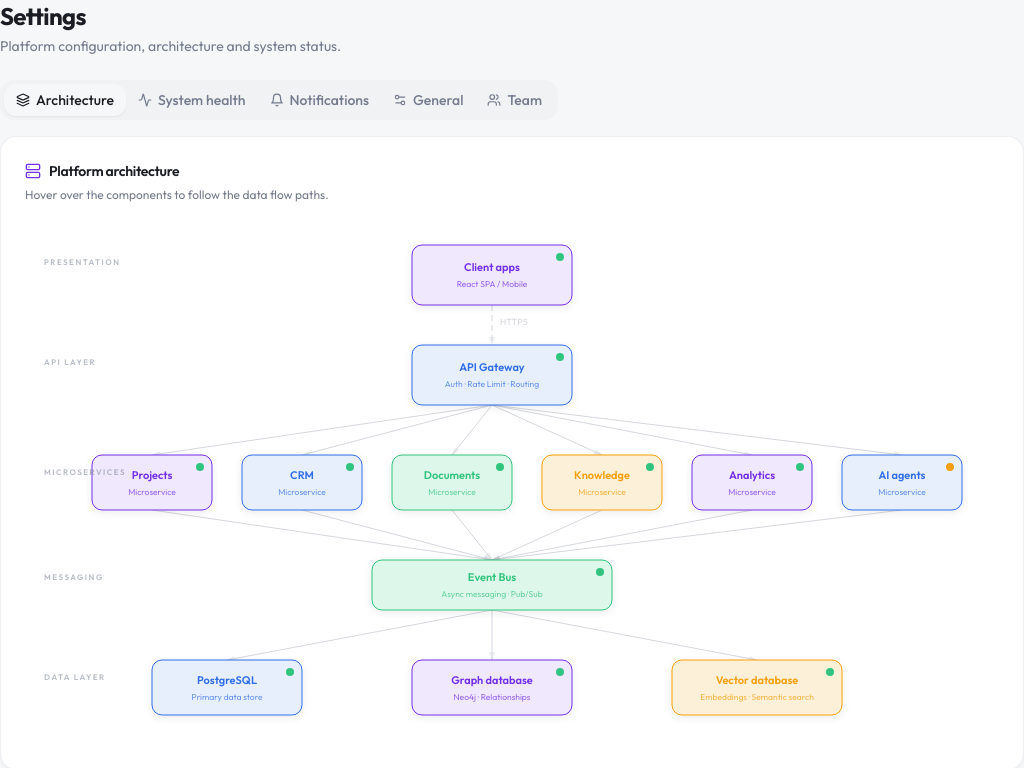
Test: Settings in English › notifications › saves a per-event toggle and updates the summary
Press the mouse on the tab "Notifications" at [319, 100], box x1=258 y1=84 x2=381 y2=116
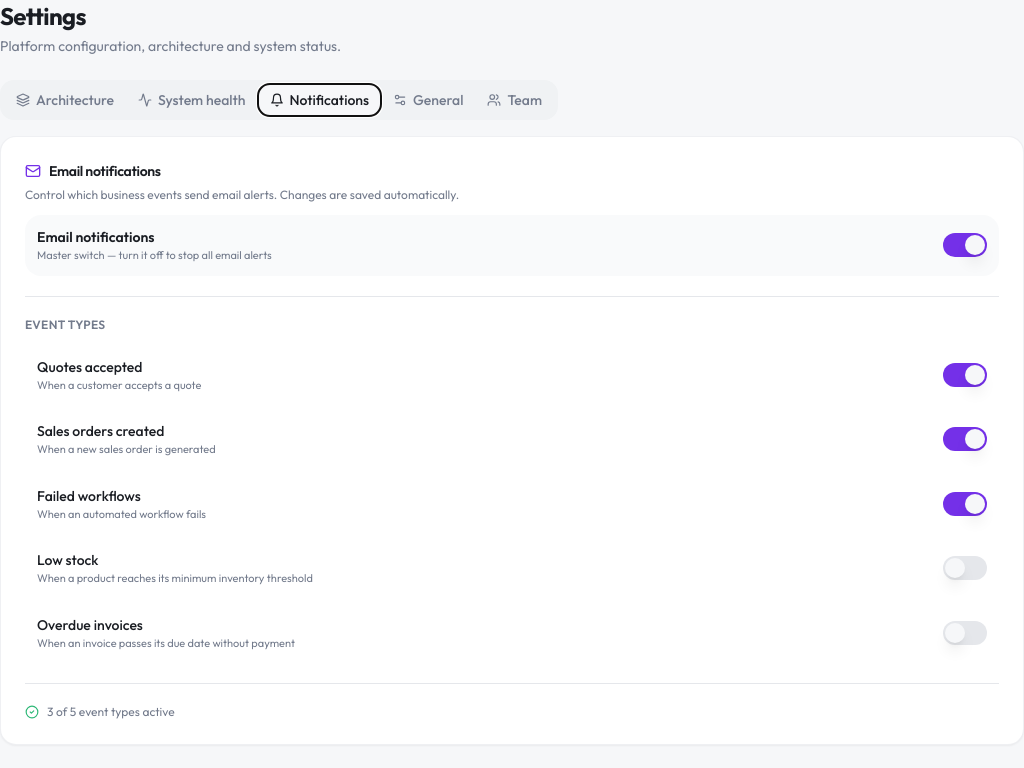
Click the switch named "Overdue invoices" at [965, 633], box x1=943 y1=621 x2=987 y2=645
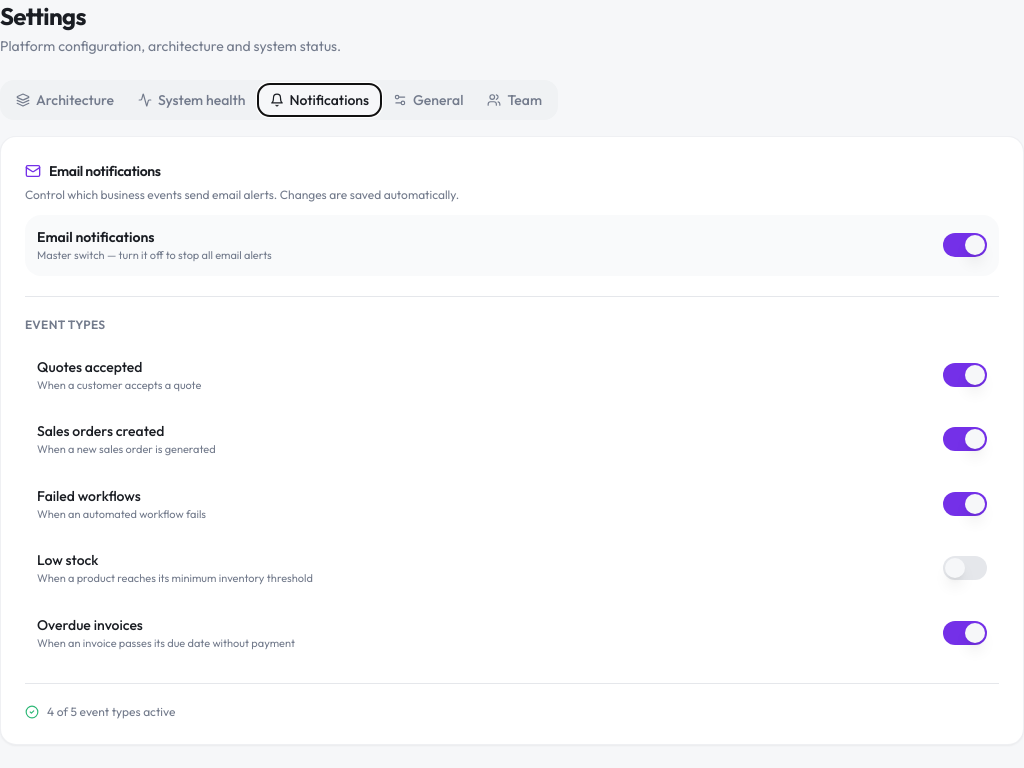
Check: the text "4 of 5 event types active" is shown, box x1=47 y1=704 x2=175 y2=720
